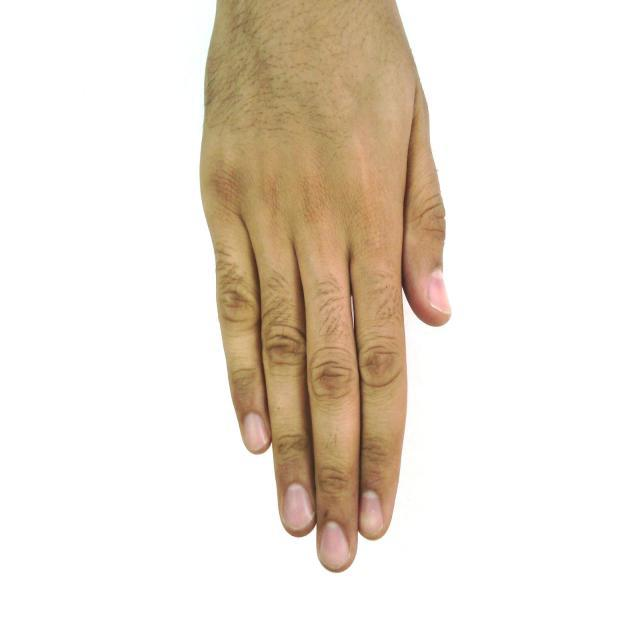Fingernail: (320, 522, 349, 568), (285, 484, 313, 529), (360, 492, 384, 535), (429, 270, 451, 313), (243, 414, 268, 449)
